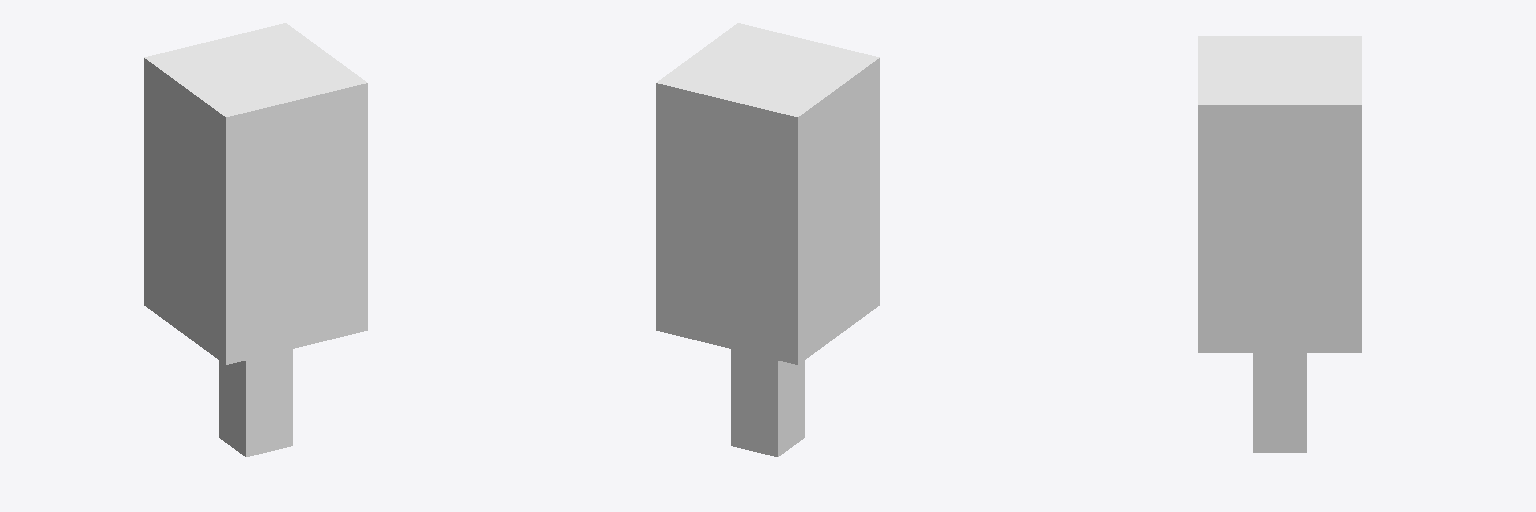
File: tree05.obj
3 renders of one model, left to right at view 1: azimuth 30°, elevation 25°; view 2: azimuth 150°, elevation 25°; view 3: azimuth 270°, elevation 25°, orthographic.
Visible parts, largest first — view 1: tree05; view 2: tree05; view 3: tree05.
Part boxes in pixels (x1,y1,x2,y2): tree05: (144, 23, 367, 456); tree05: (656, 23, 879, 456); tree05: (1198, 36, 1361, 452).
Size of the model in its own units: 6 by 15 by 6.